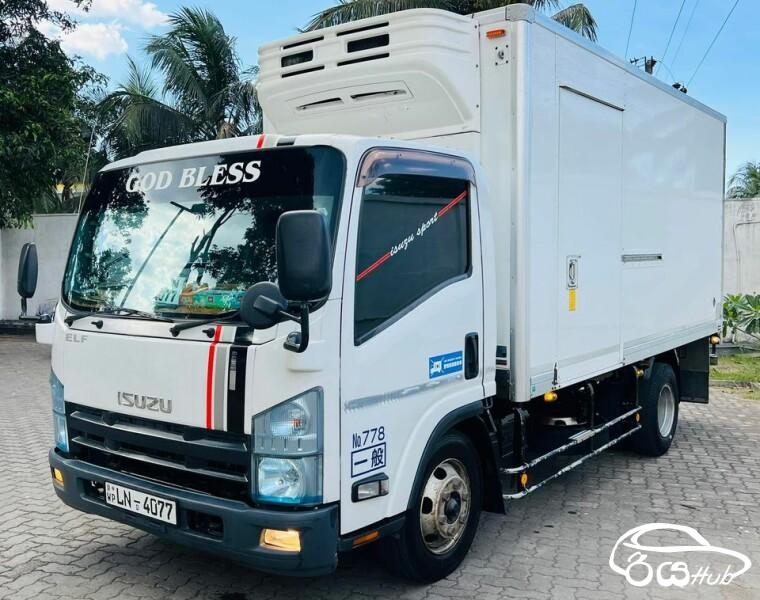truck: (16, 2, 726, 586)
